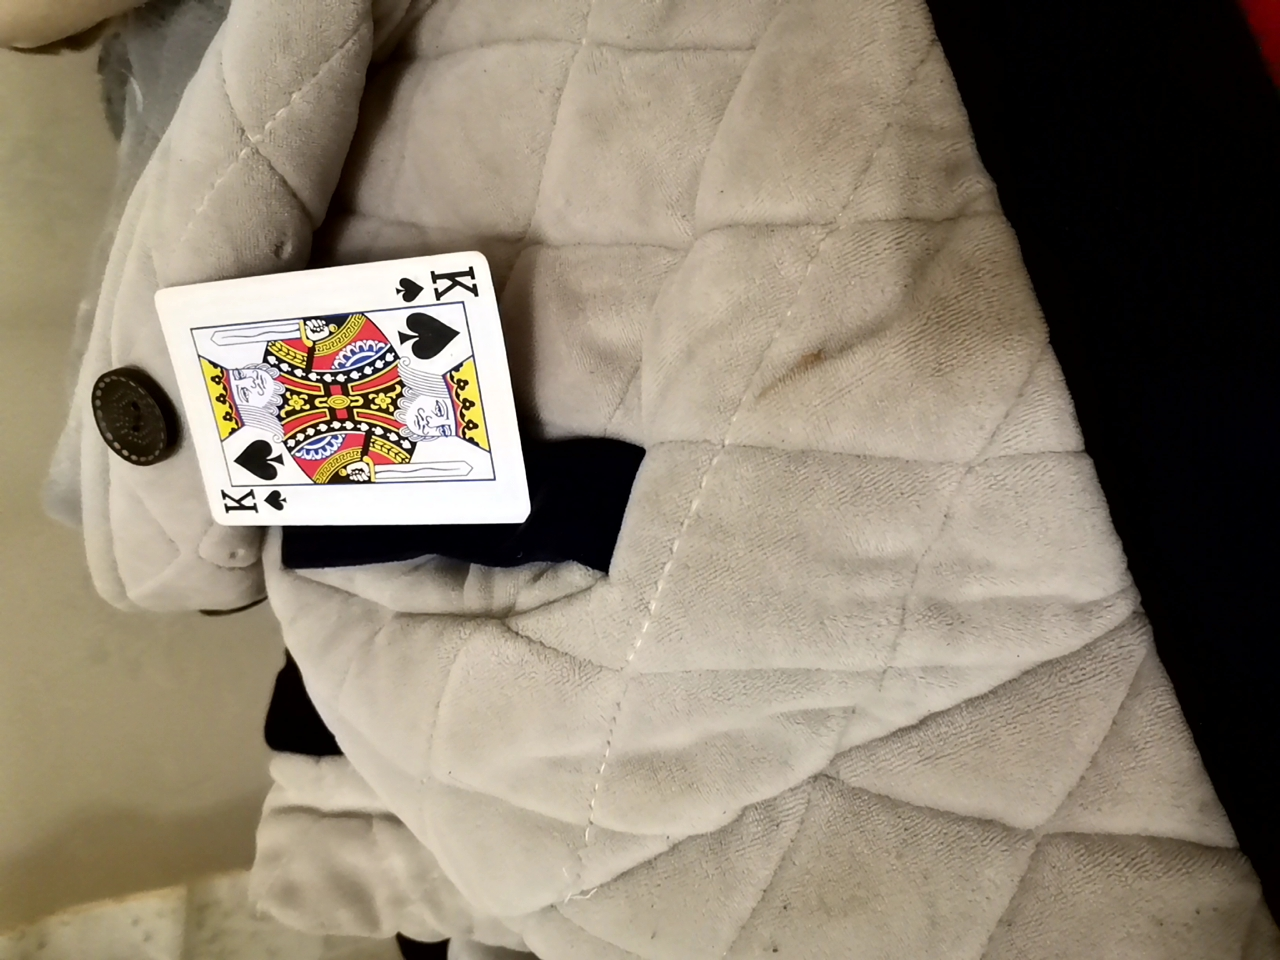ht k: (120, 235, 541, 556)
